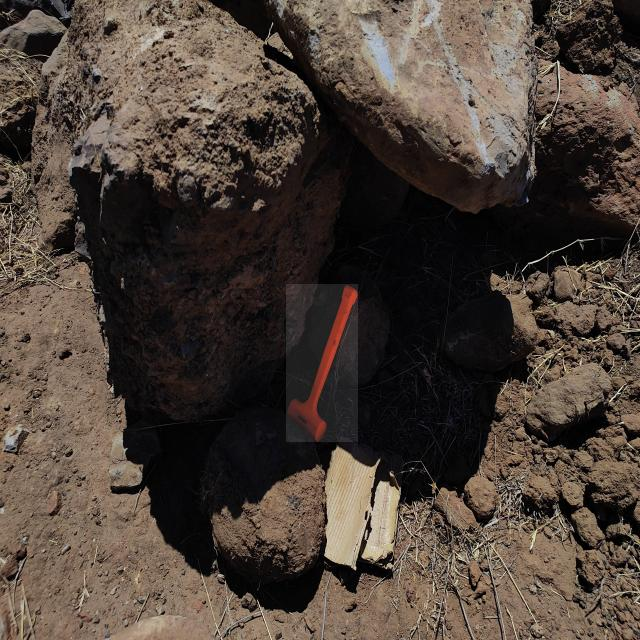Orange_hammer: (286, 284, 358, 442)
